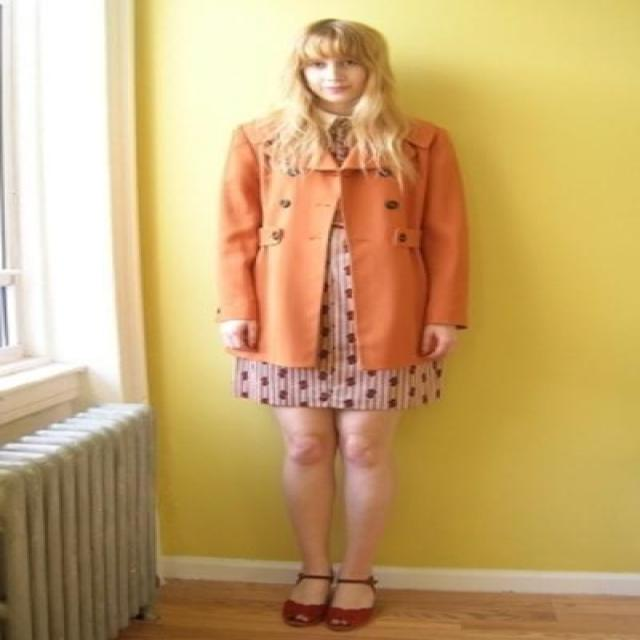dress: (211, 118, 448, 414)
jacket: (202, 121, 470, 384)
shoe: (278, 568, 364, 630)
